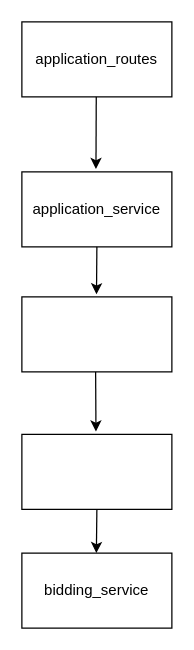
Some shapes in this 194 by 650 pixel diagram are drawn without their labels. Here are the shapes that lost their labels. From the top down, the box of each, then its label:
(21, 296, 172, 372): application_validator
(21, 433, 172, 509): applicant_validator
